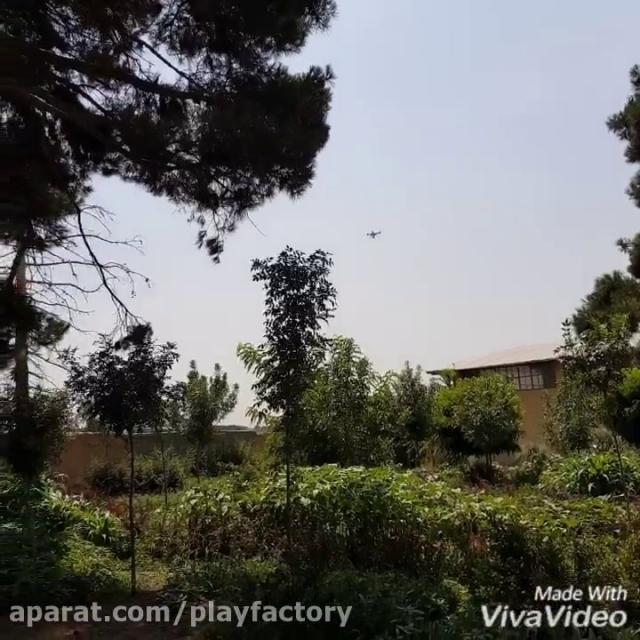drone: (363, 223, 385, 241)
